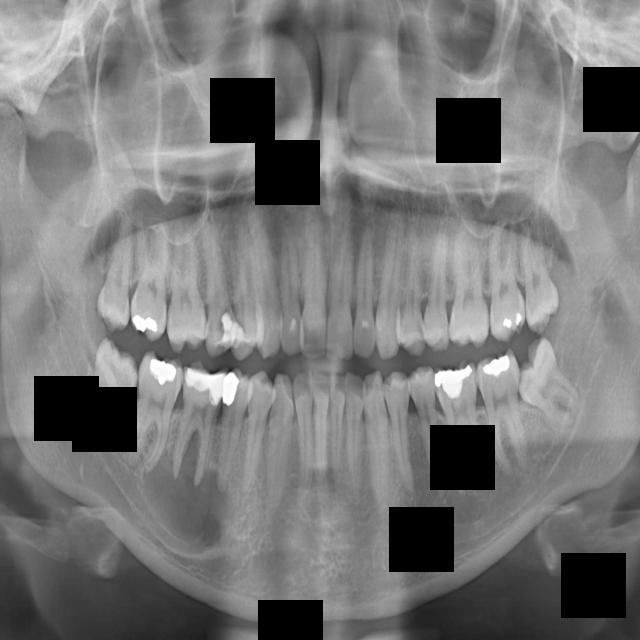3M ESPE Implant: (95, 213, 134, 334)
AGS Medikal Implant: (474, 347, 532, 480)
AMerOss Implant: (432, 357, 493, 498)
Amalgam filling: (128, 206, 170, 344)
Anthogyr Implant: (408, 363, 446, 498)
Bicon Implant: (383, 369, 419, 499)
BioHorizons Implant: (358, 369, 397, 514)
BioLife Implant: (344, 370, 363, 493)
Biomet 3i Implant: (328, 371, 345, 482)
Blue Sky Bio Implant: (311, 367, 332, 485)
Camlog Implant: (294, 371, 313, 494)
Caries: (354, 220, 376, 361)
Composite filling: (263, 371, 297, 514)
Cowellmedi Implant: (236, 367, 275, 496)
Crown: (209, 364, 251, 496)
DENTSPLY Implant: (162, 221, 208, 354)
Dentatus Implant: (163, 357, 228, 491)
Dentis Implant: (124, 347, 185, 477)
Dentium Implant: (82, 405, 104, 430)
Euroteknika Implant: (201, 209, 232, 359)
Filling: (231, 201, 257, 363)
Frontier Implant: (245, 198, 287, 361)
Hiossen Implant: (373, 191, 407, 362)
Implant: (302, 215, 326, 362)
Implant Direct: (278, 212, 303, 357)
Keystone Dental Implant: (326, 189, 353, 363)
MIS Implant: (400, 221, 427, 357)
Mandible: (424, 207, 451, 352)
Maxilla: (450, 214, 490, 349)
Megagen Implant: (500, 224, 510, 260)
Neodent Implant: (515, 204, 563, 335)
Neoss Implant: (497, 333, 596, 443)
